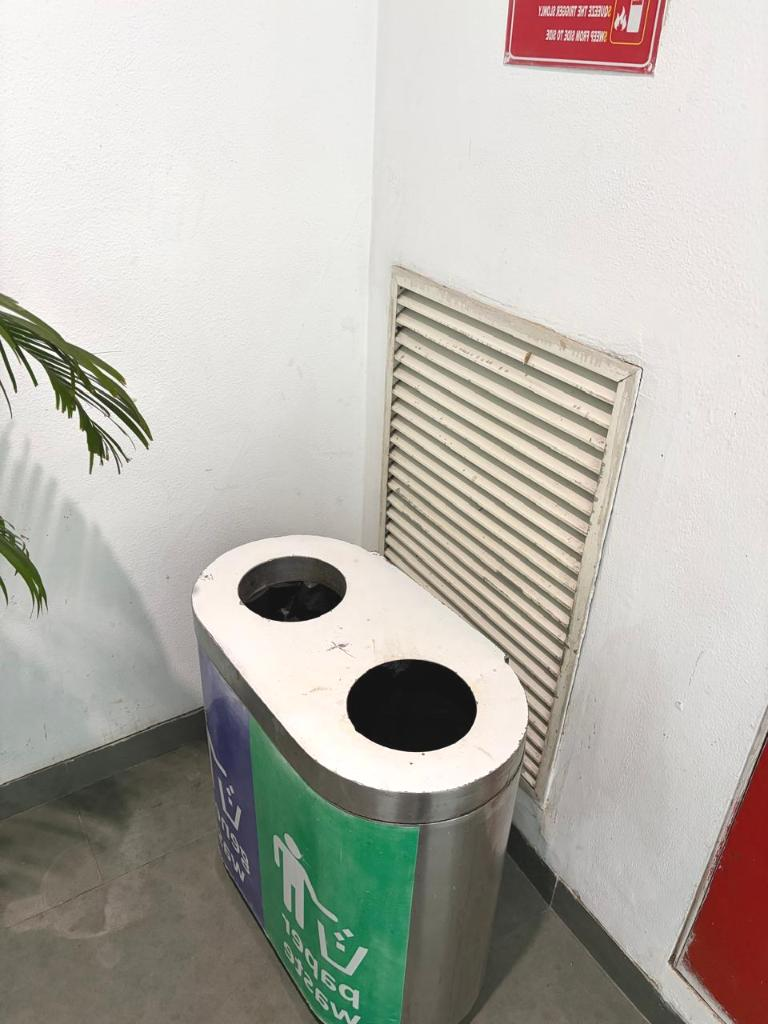dustbin: (175, 507, 573, 1023)
